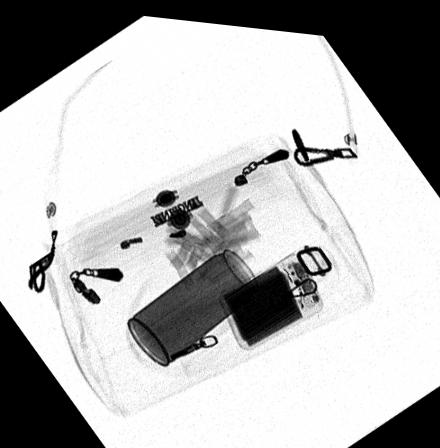Powerbank: (219, 244, 325, 344)
